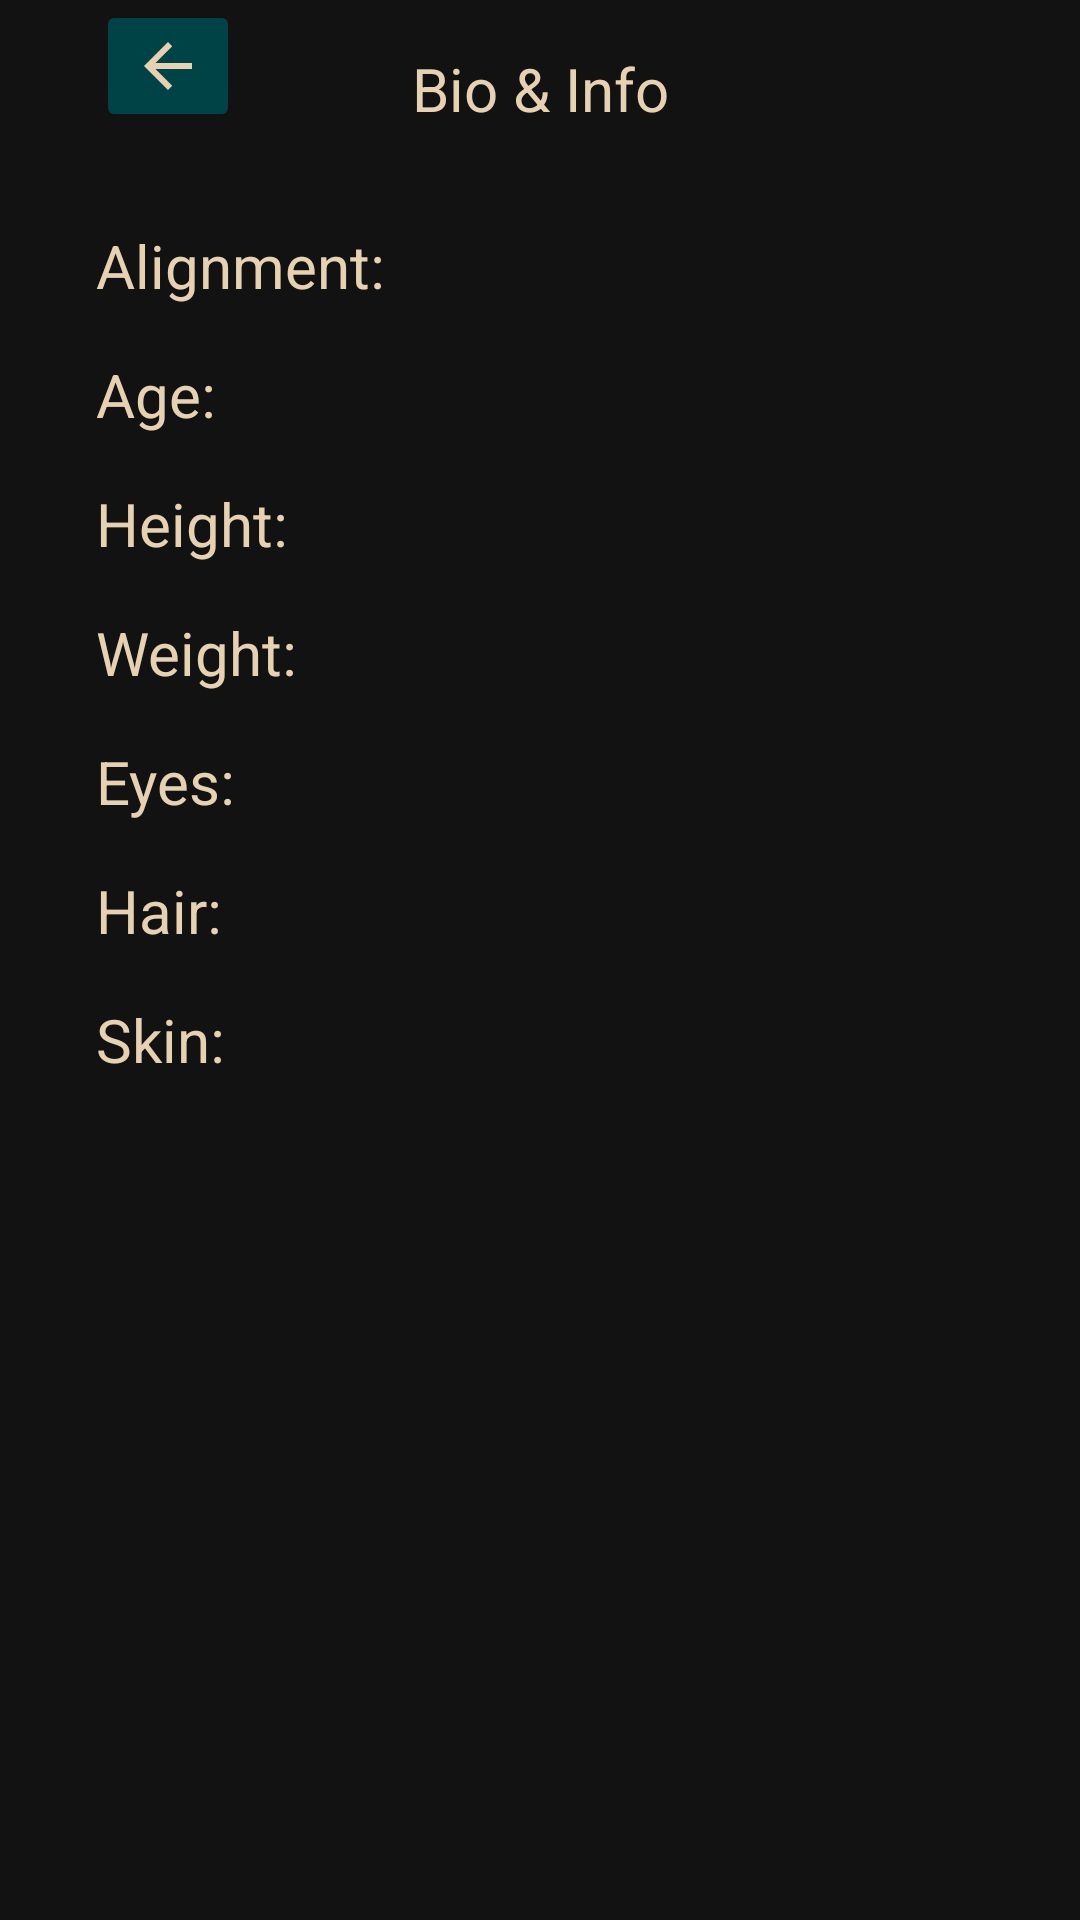

Icon bounding boxes for this 1080x1920 phone screenshot, format [x1,y1,x2,y2]:
arrow back: [108,18,228,114]
